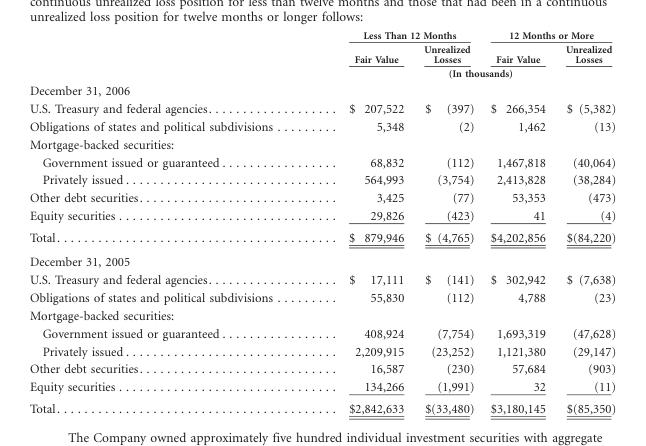table: (28, 29, 615, 415)
table column: (28, 29, 310, 415), (310, 29, 413, 415), (481, 29, 554, 415), (413, 29, 481, 415), (554, 29, 615, 415)
table column header: (28, 29, 615, 81)
table projected row header: (28, 249, 615, 270), (28, 81, 615, 99), (28, 306, 615, 324), (28, 135, 615, 152)
table row: (28, 41, 615, 66), (28, 226, 615, 249), (28, 249, 615, 270), (28, 206, 615, 226), (28, 377, 615, 397), (28, 81, 615, 99), (28, 99, 615, 117), (28, 117, 615, 135), (28, 152, 615, 170), (28, 170, 615, 188), (28, 188, 615, 206), (28, 270, 615, 288), (28, 288, 615, 306), (28, 306, 615, 324), (28, 324, 615, 342), (28, 359, 615, 377), (28, 397, 615, 415), (28, 135, 615, 152), (28, 342, 615, 359), (28, 66, 615, 81), (28, 29, 615, 41)
table spanning cell: (310, 66, 615, 81), (310, 29, 481, 41), (481, 29, 615, 41)
